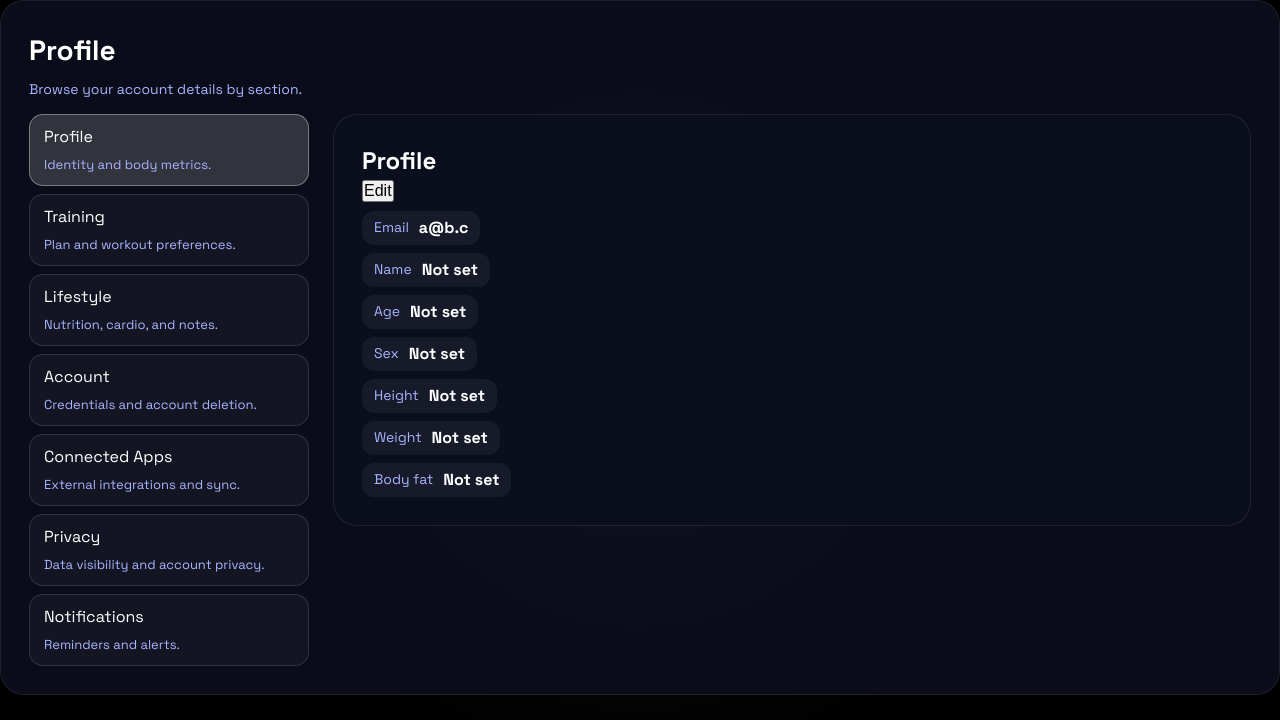
it: SettingsView › the account tab › shows the stored email and a password row, with no Edit button
The width and height of the screenshot is (1280, 720).
Click the tab "Account Credentials and account deletion." at (77, 376), box 29,354 -> 309,426
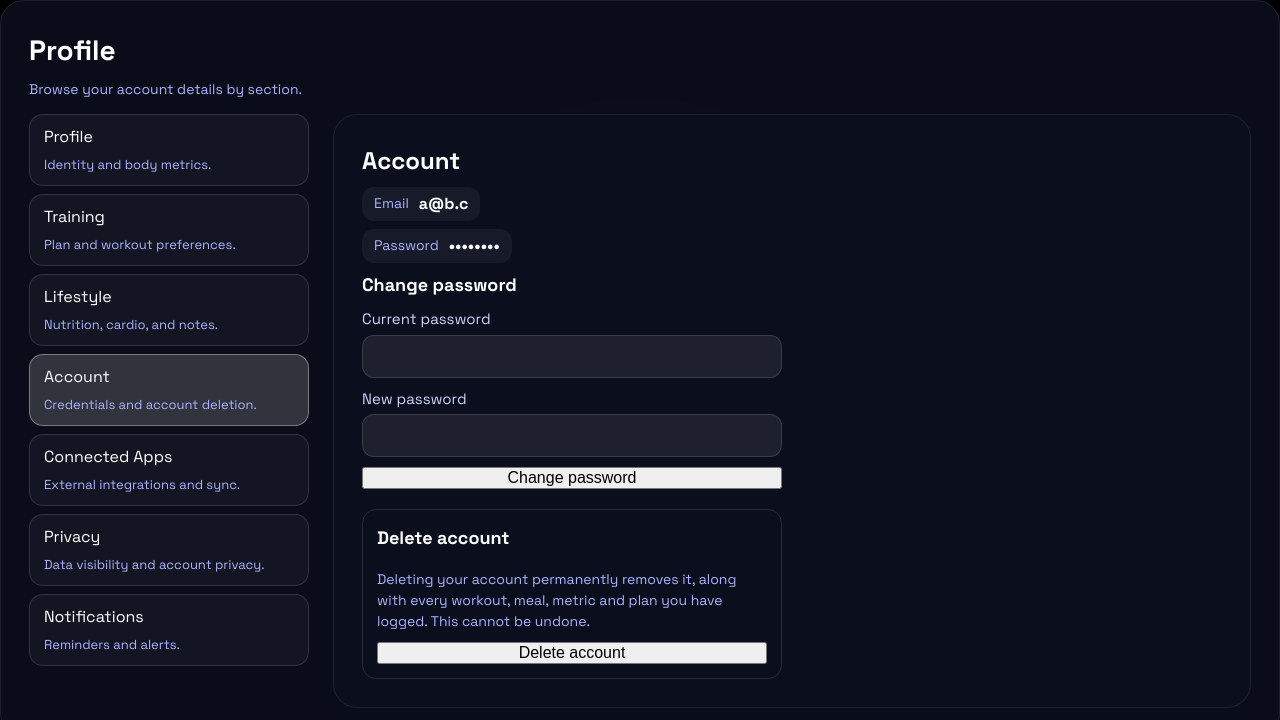
Expected: the text "a@b.c" is shown, 419,194 -> 468,214
Expected: the button "Edit" is gone
